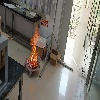fire: (28, 23, 41, 68)
